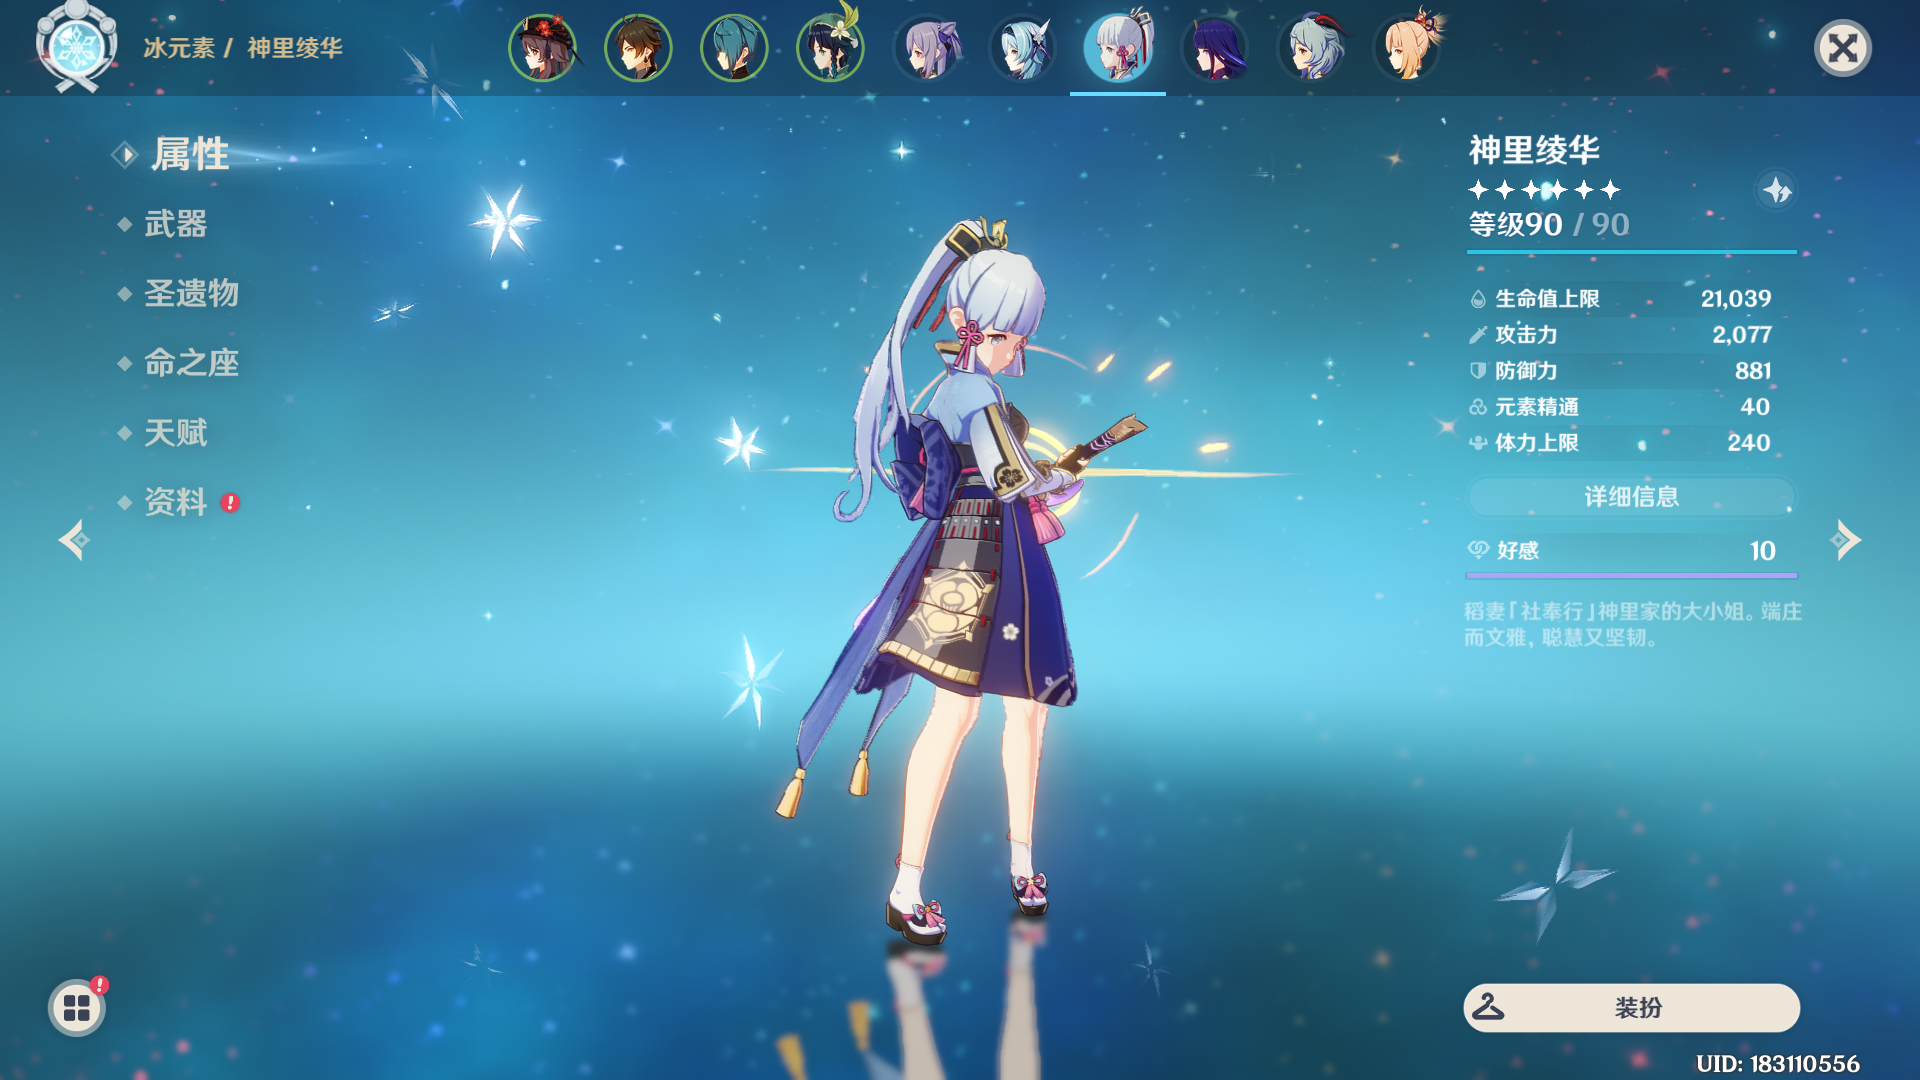character: (716, 191, 1191, 975)
